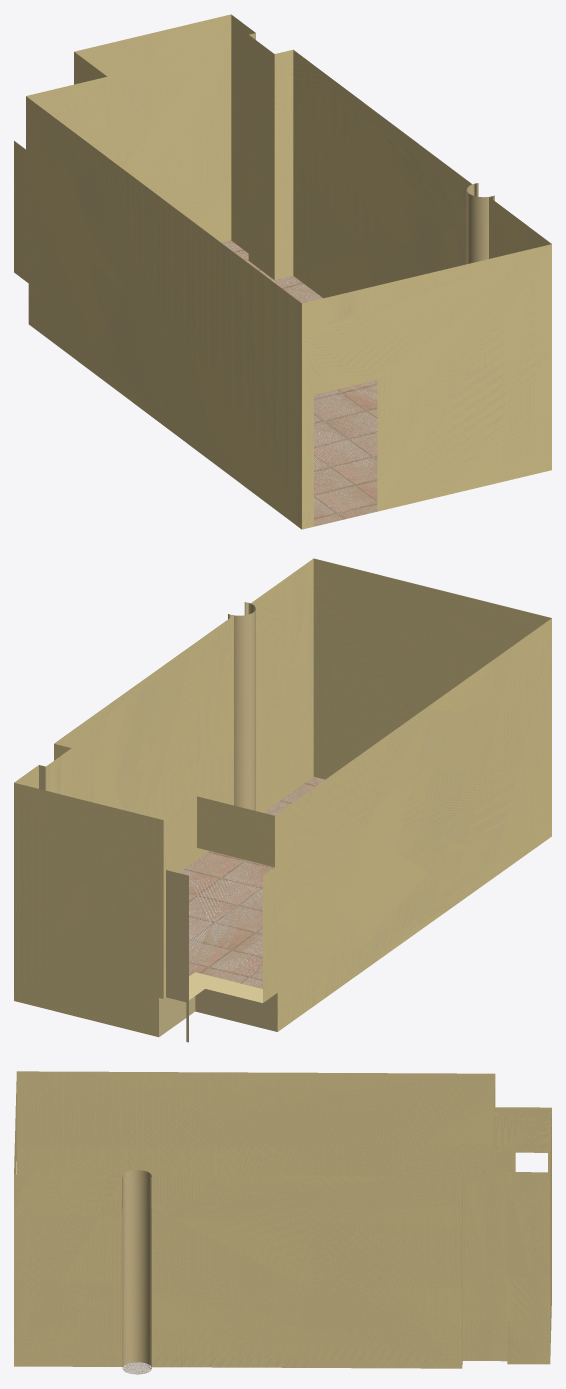
The model's file is SEM014.obj.
3 views of the same model, one above another, from view 1: azimuth 30°, elevation 25°; view 2: azimuth 150°, elevation 25°; view 3: azimuth 270°, elevation 25° (orthographic). The views are drawn at different scales.
Parts seen in each view (by area): view 1: Mesh1 SEM014 Model; view 2: Mesh1 SEM014 Model; view 3: Mesh1 SEM014 Model.
Part boxes in pixels (left/top/right/bottom): Mesh1 SEM014 Model: left=14, top=14, right=551, bottom=529; Mesh1 SEM014 Model: left=14, top=558, right=551, bottom=1042; Mesh1 SEM014 Model: left=14, top=1071, right=551, bottom=1374.
Size of the model in its own units: 4.46 by 3.6 by 9.14.
5 materials, 2 textured.
